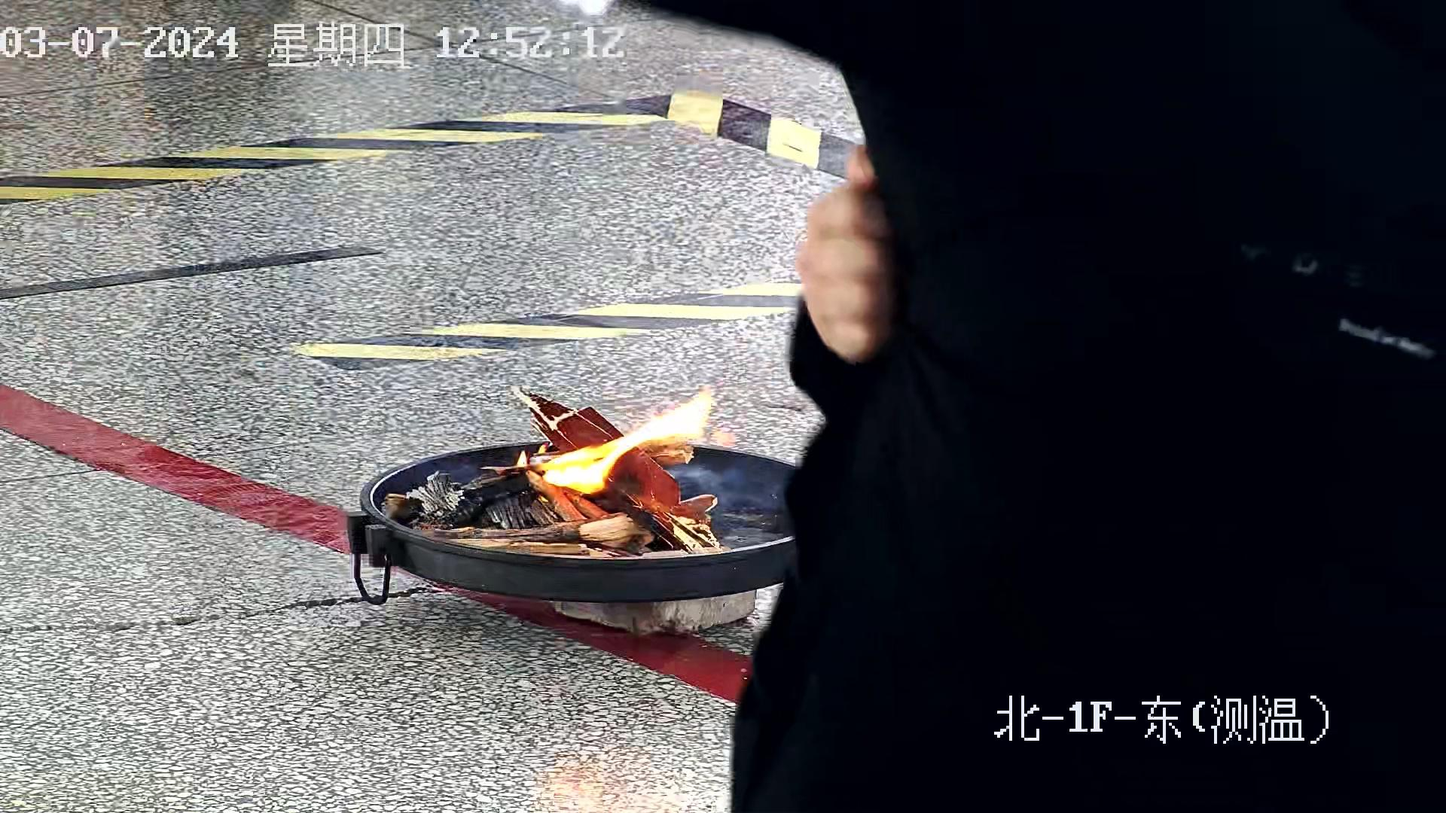fire: (541, 388, 715, 494)
